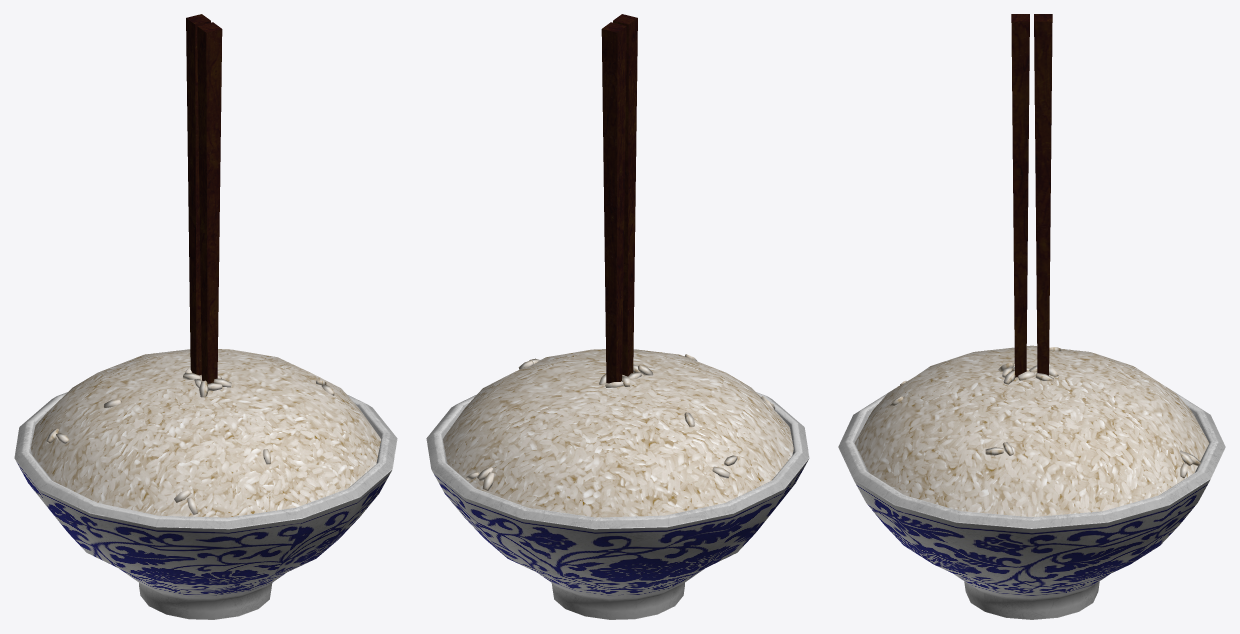
File: rice_funeral_offerings_final.FBX
The picture shows the model from 3 angles, left to right: view 1: azimuth 30°, elevation 25°; view 2: azimuth 150°, elevation 25°; view 3: azimuth 270°, elevation 25°; orthographic projection.
Parts seen in each view (by area): view 1: Teapot001; view 2: Teapot001; view 3: Teapot001.
Part boxes in pixels (box(x1,y1,x2,y2)): Teapot001: box(14, 14, 397, 619); Teapot001: box(426, 14, 809, 619); Teapot001: box(838, 14, 1225, 619).
Size of the model in its own units: 0.1671 by 0.1671 by 0.2726.
Materials: 1 (1 with a texture image).
